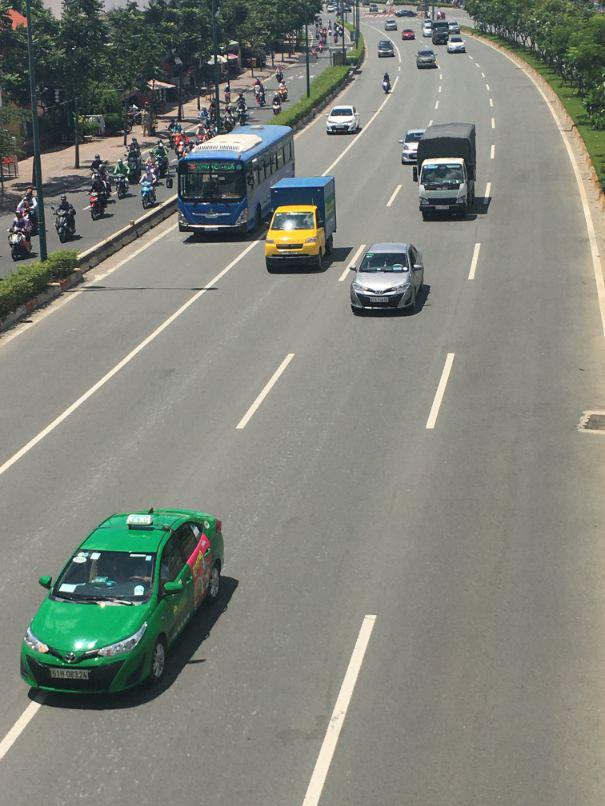bus: (176, 121, 296, 238)
car: (22, 505, 229, 700), (350, 242, 429, 316), (326, 106, 362, 136), (401, 128, 425, 168), (417, 46, 439, 69), (376, 38, 396, 59), (433, 23, 449, 45), (446, 35, 465, 53), (402, 29, 417, 41)
motorbike: (55, 206, 79, 241), (10, 229, 31, 262), (90, 190, 112, 220)
truck: (265, 175, 340, 275), (417, 120, 476, 221)
